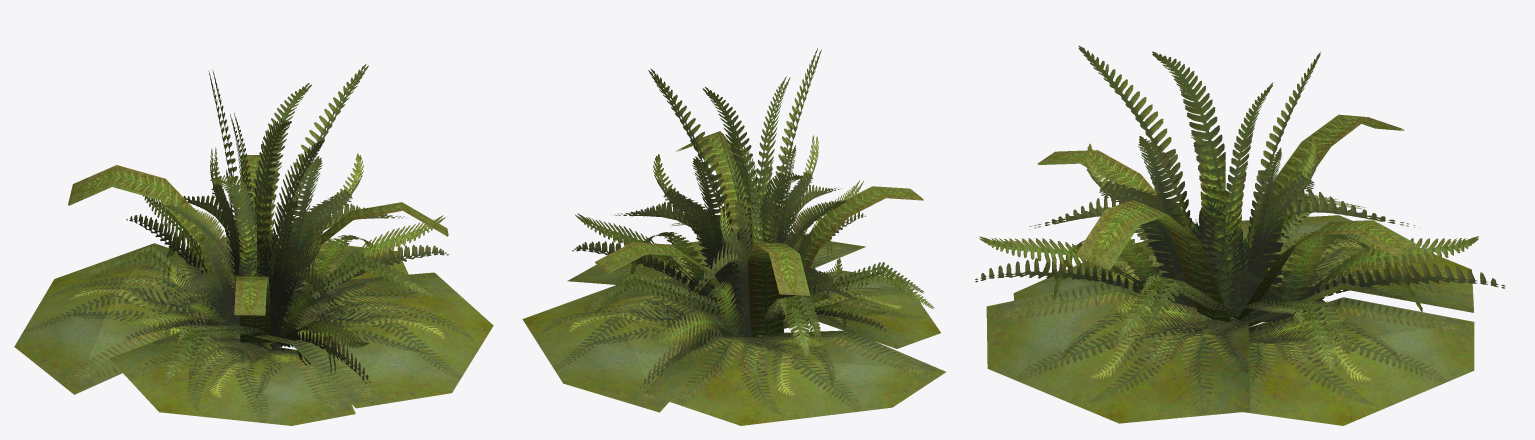
Rendered from frst_fern_olive_l1.fbx.
The picture shows the model from 3 angles, left to right: view 1: azimuth 30°, elevation 25°; view 2: azimuth 150°, elevation 25°; view 3: azimuth 270°, elevation 25°; orthographic projection. The views are drawn at different scales.
Visible parts, largest first — view 1: mesh_node; view 2: mesh_node; view 3: mesh_node.
Boxes of the visible parts, x1,y1,x2,y2 form: mesh_node: [14, 64, 493, 425]; mesh_node: [522, 48, 945, 425]; mesh_node: [975, 46, 1504, 425].
Bounding box in the file's own units: 3.34 × 2.41 × 3.65.
